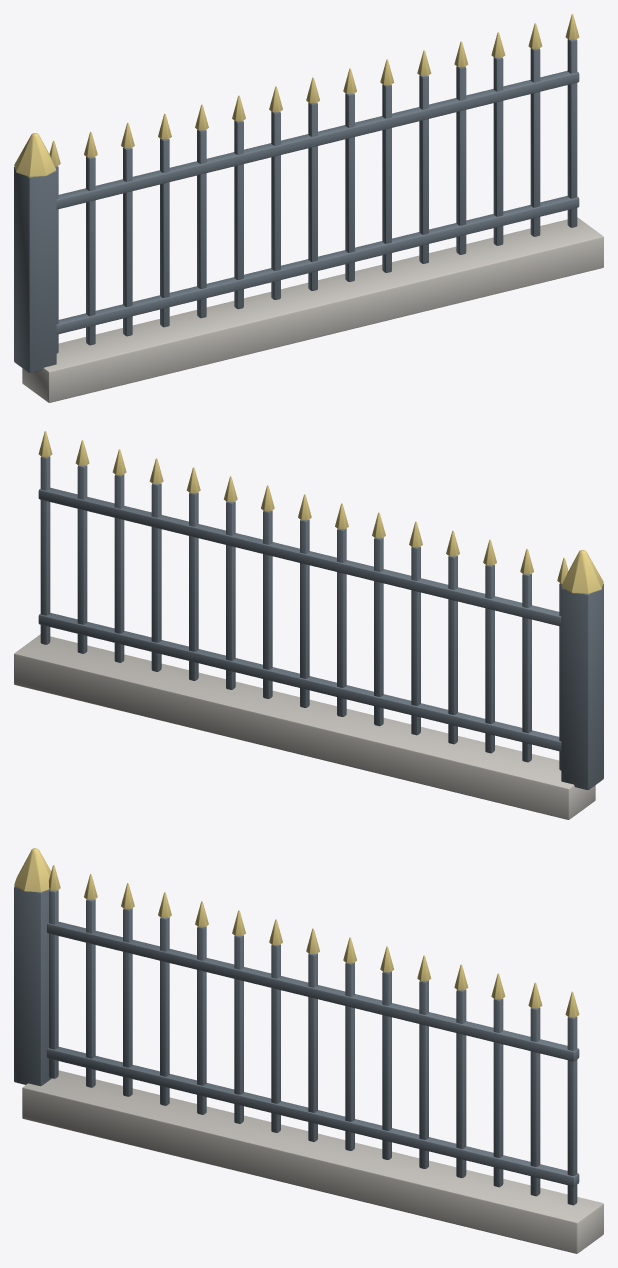
File: th33_parkzaun_modul.glb
3 views of the same model, one above another, from view 1: azimuth 30°, elevation 25°; view 2: azimuth 150°, elevation 25°; view 3: azimuth 330°, elevation 25° (orthographic).
Visible parts, largest first — view 1: Cube, Cube.001, Cube.002, Cube.003, Cube.015, Cube.016, Cube.017, Cube.018, Cube.005, Cube.006, Cube.013, Cube.007 (+7 smaller); view 2: Cube, Cube.001, Cube.002, Cube.003, Cube.015, Cube.016, Cube.017, Cube.018, Cube.005, Cube.006, Cube.013, Cube.007 (+7 smaller); view 3: Cube, Cube.003, Cube.002, Cube.001, Cube.018, Cube.016, Cube.017, Cube.015, Cube.004, Cube.007, Cube.014, Cube.005 (+8 smaller).
Part boxes in pixels (<box>): Cube: <box>22,217,603,402</box>; Cube.001: <box>14,167,56,372</box>; Cube.002: <box>56,196,579,334</box>; Cube.003: <box>56,70,579,209</box>; Cube.015: <box>456,66,466,254</box>; Cube.016: <box>493,57,503,245</box>; Cube.017: <box>530,48,540,236</box>; Cube.018: <box>567,39,577,227</box>; Cube.005: <box>86,157,95,345</box>; Cube.006: <box>123,148,132,336</box>; Cube.013: <box>382,84,391,272</box>; Cube.007: <box>160,139,169,327</box>; Cube: <box>14,634,595,819</box>; Cube.001: <box>561,584,603,789</box>; Cube.002: <box>38,613,561,751</box>; Cube.003: <box>38,487,561,626</box>; Cube.015: <box>151,483,161,671</box>; Cube.016: <box>114,474,124,662</box>; Cube.017: <box>77,465,87,653</box>; Cube.018: <box>40,456,50,644</box>; Cube.005: <box>522,574,531,762</box>; Cube.006: <box>485,565,494,753</box>; Cube.013: <box>226,501,235,689</box>; Cube.007: <box>448,556,457,744</box>; Cube: <box>22,1070,603,1253</box>; Cube.003: <box>47,922,579,1061</box>; Cube.002: <box>47,1047,579,1186</box>; Cube.001: <box>14,886,51,1086</box>; Cube.018: <box>567,1017,577,1205</box>; Cube.016: <box>493,999,503,1187</box>; Cube.017: <box>530,1008,540,1196</box>; Cube.015: <box>456,989,466,1177</box>; Cube.004: <box>49,890,58,1078</box>; Cube.007: <box>160,917,169,1105</box>; Cube.014: <box>419,980,428,1168</box>; Cube.005: <box>86,899,95,1087</box>.
Size of the model in its own units: 4.14 by 1.79 by 0.34.
